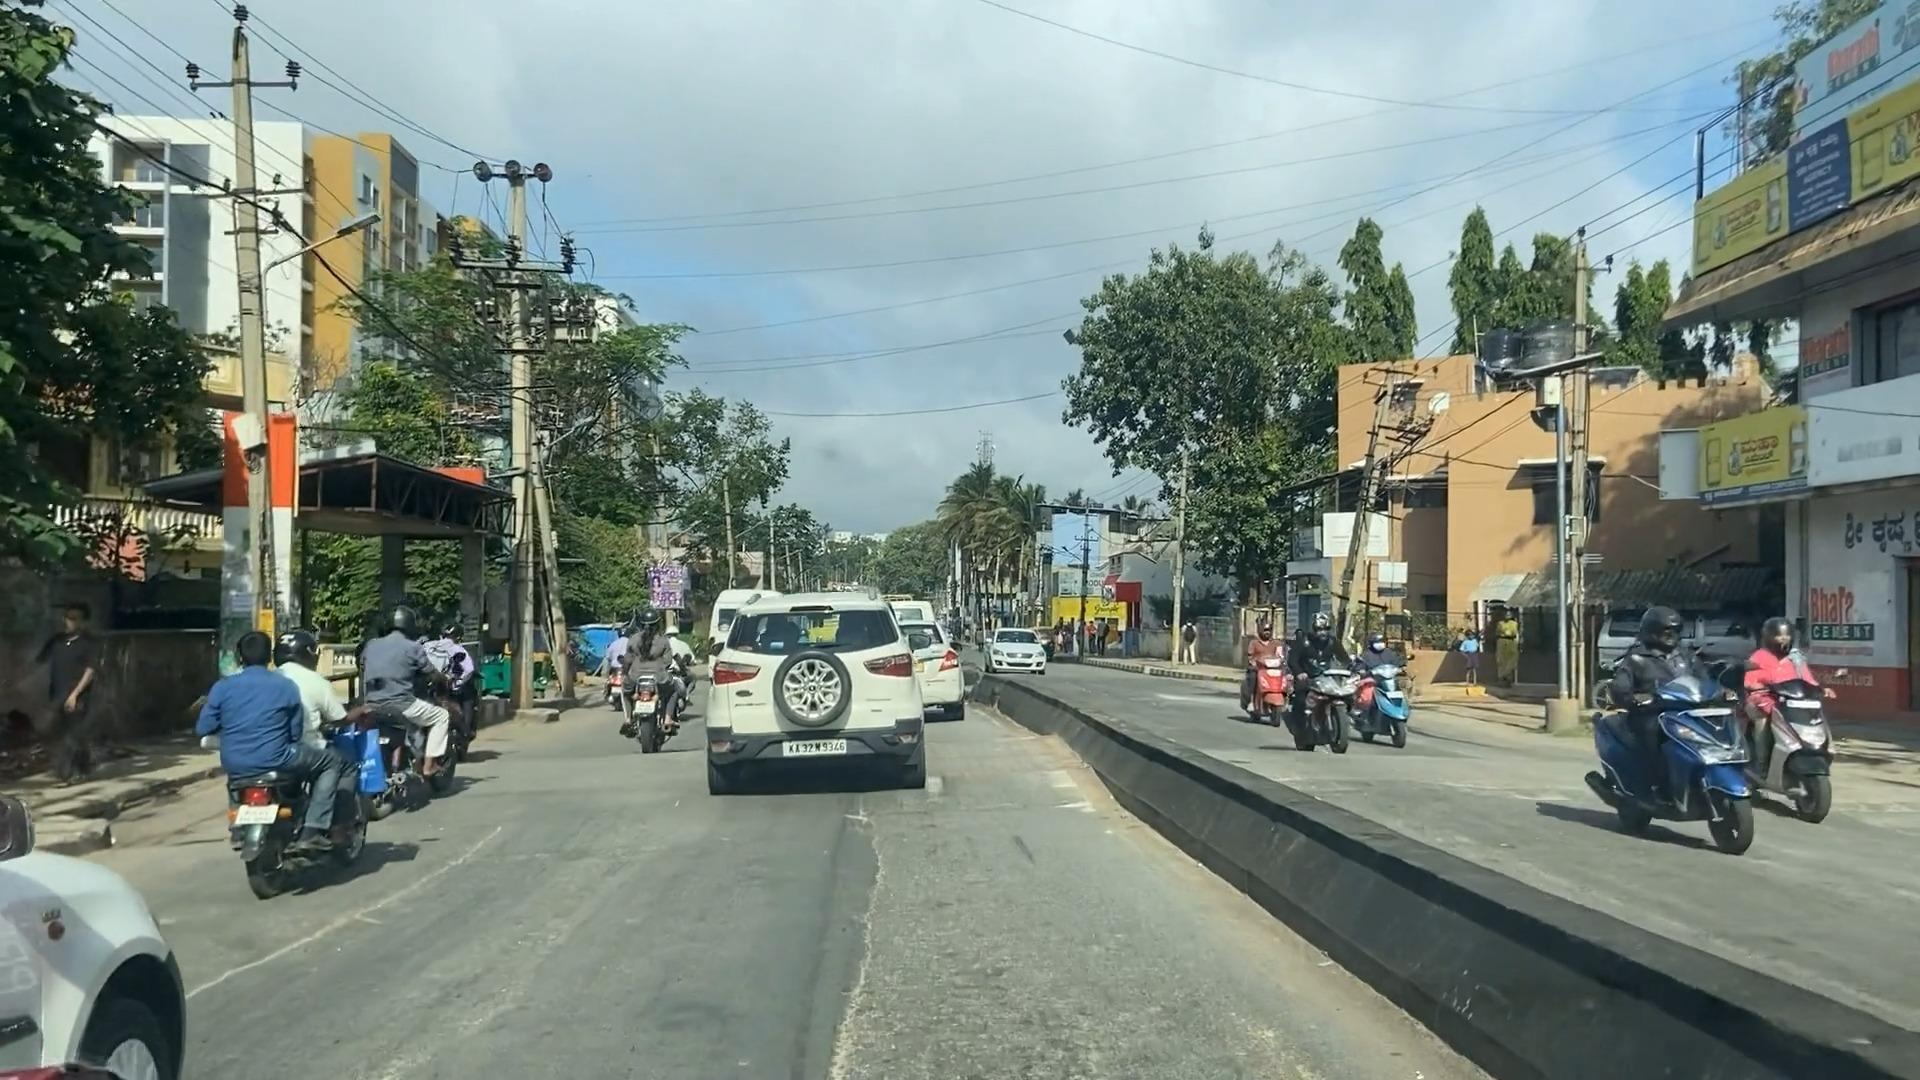LMV: (210, 626, 376, 869), (711, 600, 926, 783), (622, 618, 683, 757)
RoadDamages: (196, 819, 506, 976), (796, 806, 889, 1080)
